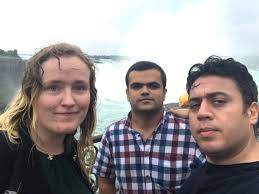middle_eastern_male: (189, 72, 256, 158)
